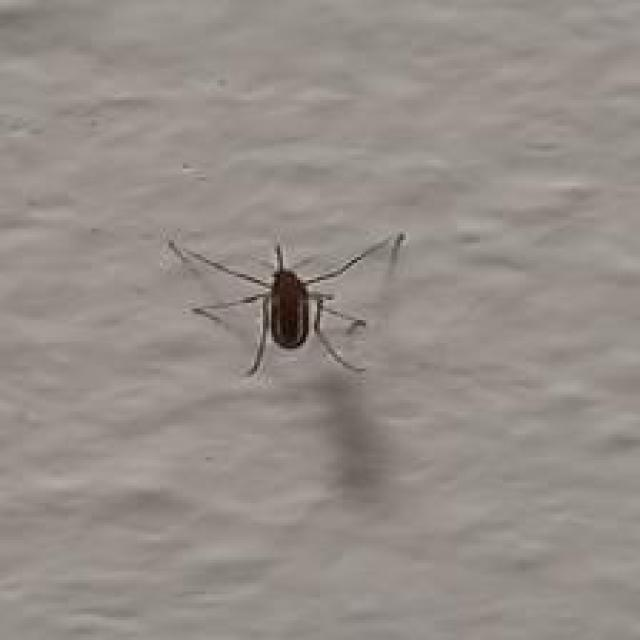Culex: (166, 227, 406, 379)
